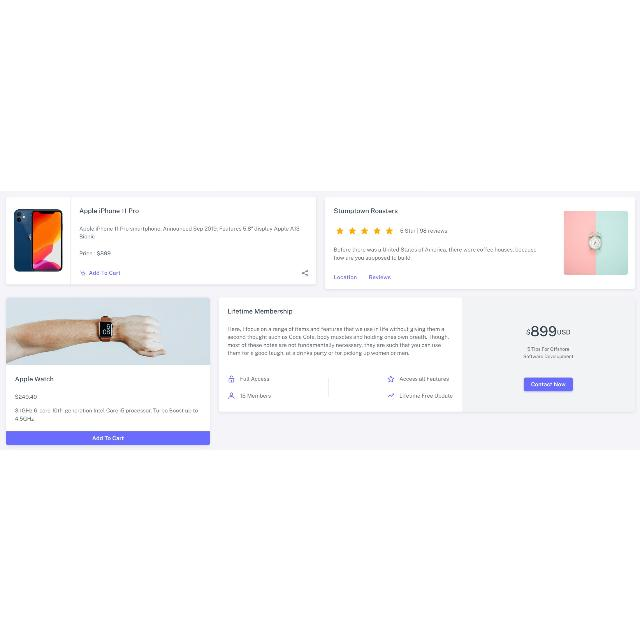QLabel: (226, 324, 449, 356), (79, 225, 301, 239), (334, 246, 536, 260), (14, 408, 200, 422), (227, 307, 295, 315), (78, 206, 140, 214), (334, 207, 398, 213), (399, 392, 453, 398), (14, 374, 54, 382), (530, 324, 556, 336), (399, 227, 447, 233), (78, 248, 112, 256), (238, 392, 272, 398), (523, 354, 573, 358), (92, 435, 125, 441), (399, 376, 448, 380), (13, 392, 37, 400), (240, 376, 270, 382), (526, 346, 570, 350), (333, 273, 357, 279), (530, 382, 566, 386), (369, 274, 391, 280), (558, 328, 570, 334), (526, 328, 530, 334)
VBtn: (6, 431, 210, 445), (523, 377, 573, 391)
VCard: (217, 296, 637, 412), (6, 295, 210, 445), (324, 194, 636, 290), (5, 195, 317, 285)
VDivider: (227, 364, 453, 366), (328, 377, 329, 397)
VIcon: (227, 391, 235, 399), (228, 374, 235, 382), (388, 374, 394, 382), (302, 268, 308, 276), (80, 269, 86, 275), (387, 393, 395, 397)
VImg: (7, 298, 210, 364), (564, 210, 628, 274), (13, 207, 62, 271)
VRating: (335, 226, 393, 234)
